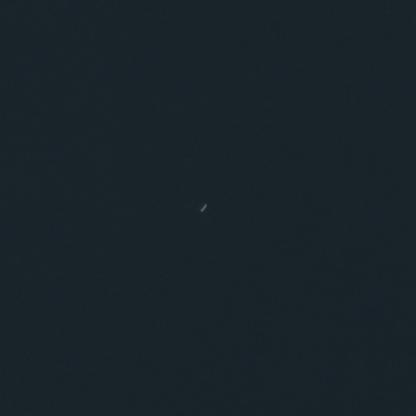ship: (30, 34, 43, 48)
